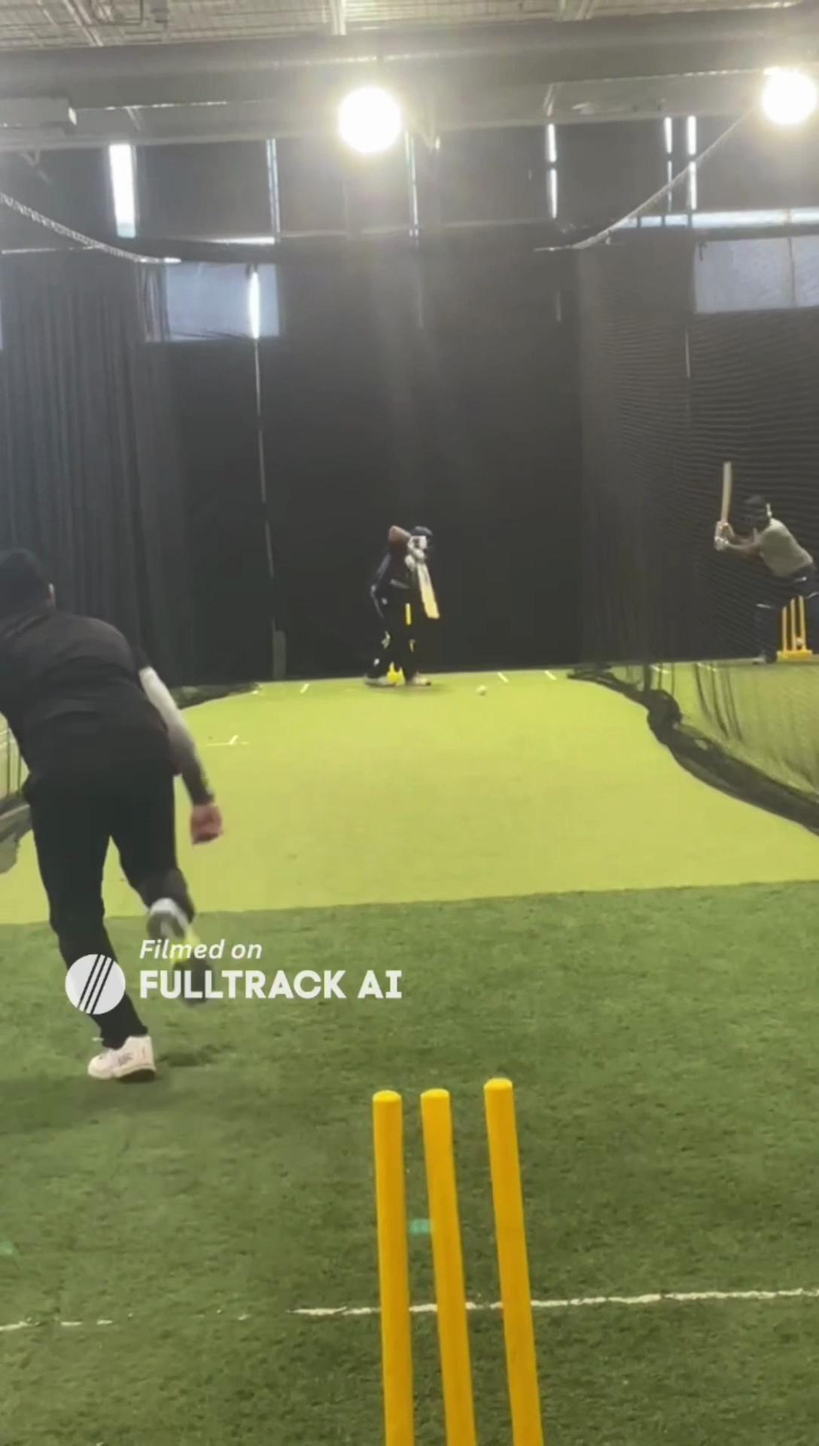ball: (468, 682, 489, 698)
